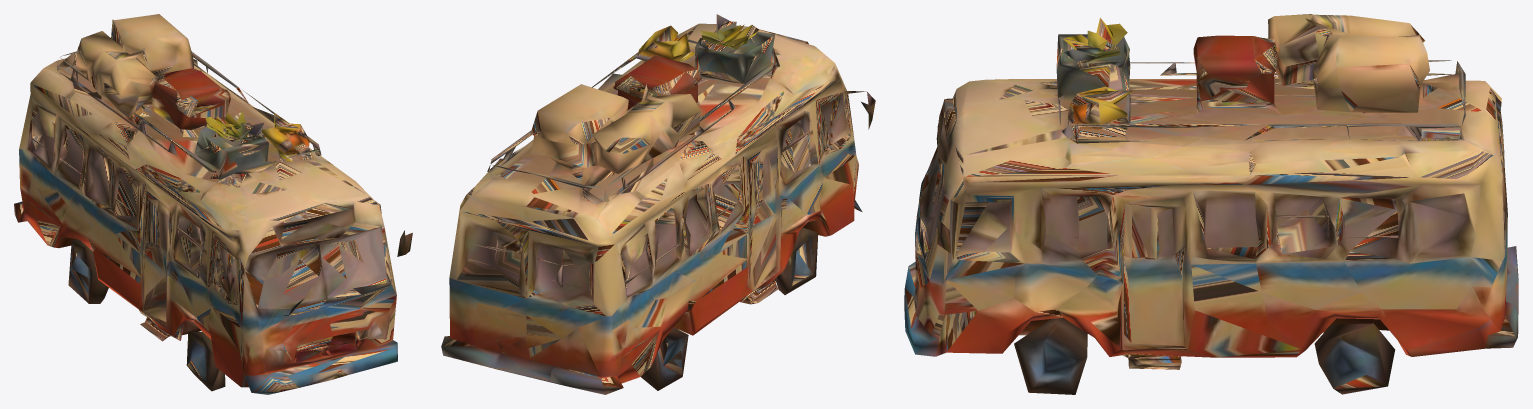
Rendered from bus.glb.
3 renders of one model, left to right at view 1: azimuth 30°, elevation 25°; view 2: azimuth 150°, elevation 25°; view 3: azimuth 270°, elevation 25°, orthographic. The views are drawn at different scales.
Parts seen in each view (by area): view 1: tripo_node_d5ba40f9-171d-430d-acd5-e4d0b3946af2; view 2: tripo_node_d5ba40f9-171d-430d-acd5-e4d0b3946af2; view 3: tripo_node_d5ba40f9-171d-430d-acd5-e4d0b3946af2.
Part boxes in pixels (x1,y1,x2,y2): tripo_node_d5ba40f9-171d-430d-acd5-e4d0b3946af2: (14,14,412,394); tripo_node_d5ba40f9-171d-430d-acd5-e4d0b3946af2: (441,14,875,394); tripo_node_d5ba40f9-171d-430d-acd5-e4d0b3946af2: (904,14,1518,394).
Bounding box in the file's own units: 0.4403 × 0.5625 × 0.9753.
1 material, 1 textured.
